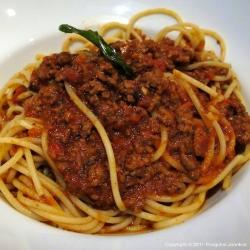bolonese_pasta: (5, 30, 240, 232)
